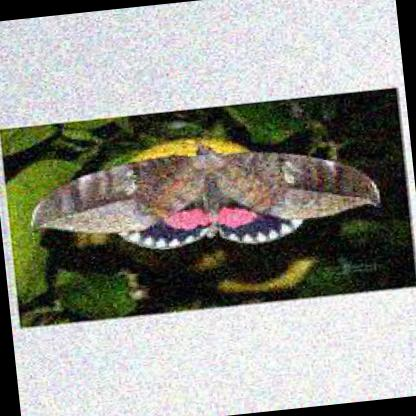fruit sucking moth: (33, 144, 380, 253)
